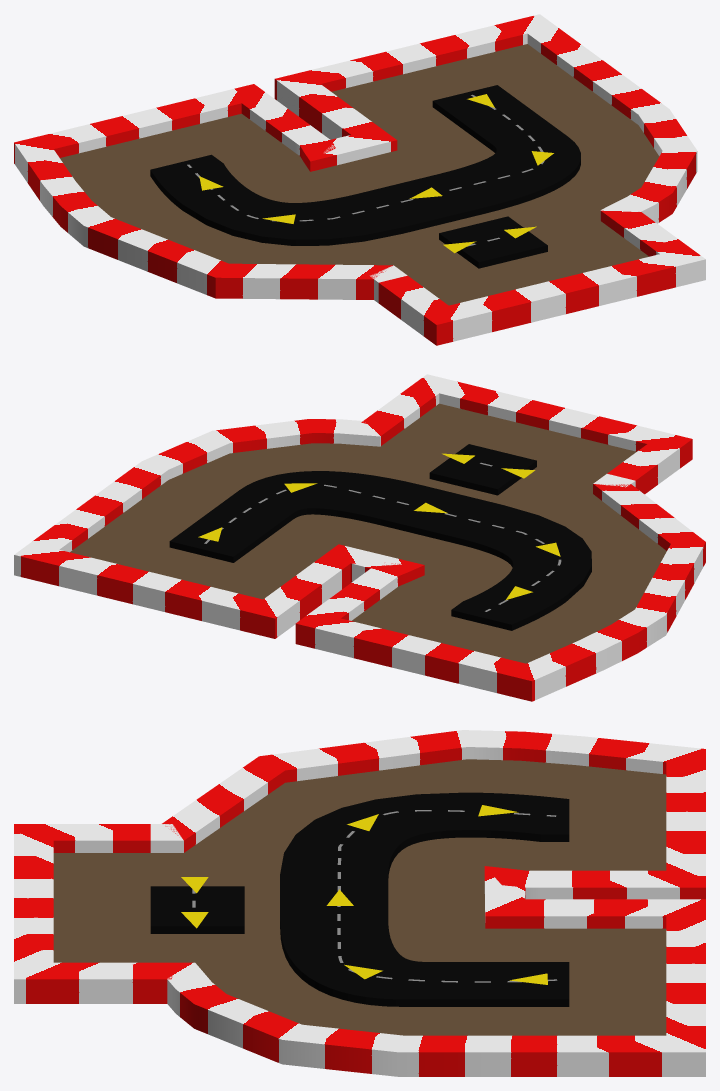
3 views of the same model, one above another, from view 1: azimuth 30°, elevation 25°; view 2: azimuth 150°, elevation 25°; view 3: azimuth 270°, elevation 25° (orthographic). The views are drawn at different scales.
Visible parts, largest first — view 1: ba2_coll, ba2_floor, ba2; view 2: ba2_coll, ba2_floor, ba2; view 3: ba2_floor, ba2_coll, ba2, Line0.
Part boxes in pixels (left/top/right/bottom): ba2_coll: left=14, top=14, right=705, bottom=345; ba2_floor: left=60, top=44, right=659, bottom=305; ba2: left=150, top=85, right=580, bottom=268; ba2_coll: left=14, top=374, right=705, bottom=701; ba2_floor: left=70, top=403, right=666, bottom=663; ba2: left=169, top=444, right=591, bottom=630; ba2_floor: left=53, top=759, right=666, bottom=1035; ba2_coll: left=14, top=730, right=705, bottom=1076; ba2: left=150, top=792, right=569, bottom=1006; Line0: left=337, top=810, right=557, bottom=982.
Bounding box in the file's own units: 922 × 32.76 × 836.
